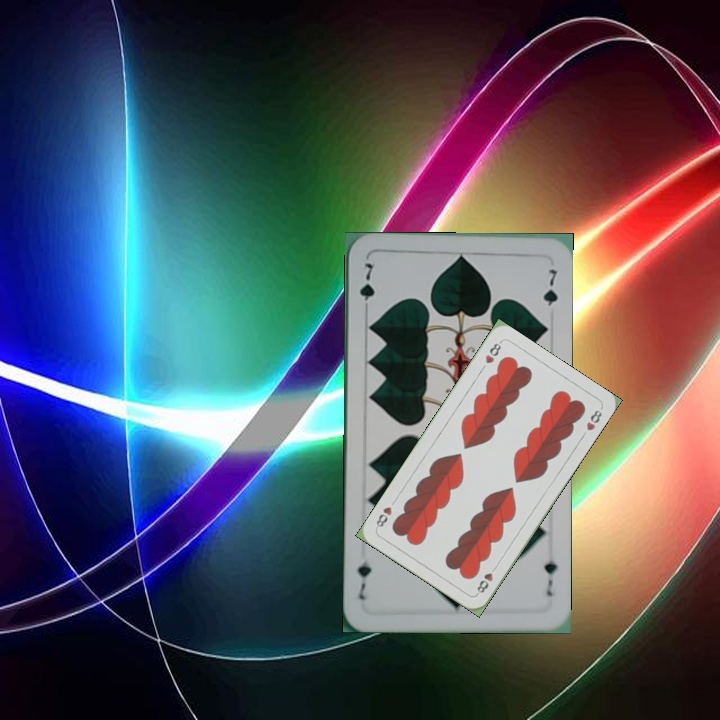G7: (355, 259, 377, 316), (540, 556, 560, 599)
H8: (473, 561, 500, 597), (481, 337, 504, 366)
